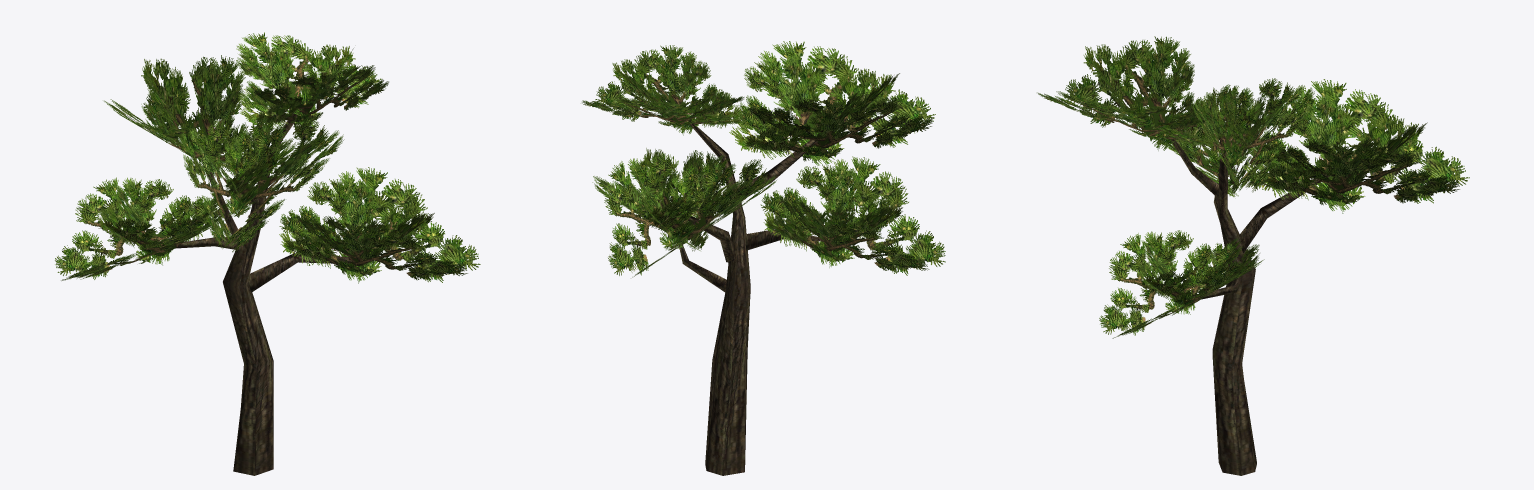
File: tre_pine03.glb
The picture shows the model from 3 angles, left to right: view 1: azimuth 30°, elevation 25°; view 2: azimuth 150°, elevation 25°; view 3: azimuth 270°, elevation 25°; orthographic projection. The views are drawn at different scales.
Visible parts, largest first — view 1: tre_pine03_leaf, tre_pine03_gidung; view 2: tre_pine03_leaf, tre_pine03_gidung; view 3: tre_pine03_leaf, tre_pine03_gidung.
Part boxes in pixels (x1,y1,x2,y2): tre_pine03_leaf: (55, 32, 480, 283); tre_pine03_gidung: (161, 114, 363, 475); tre_pine03_leaf: (582, 41, 945, 277); tre_pine03_gidung: (679, 120, 823, 475); tre_pine03_leaf: (1037, 36, 1469, 338); tre_pine03_gidung: (1158, 119, 1329, 475).
Bounding box in the file's own units: 7.81 × 7.1 × 7.95.
2 materials, 2 textured.
